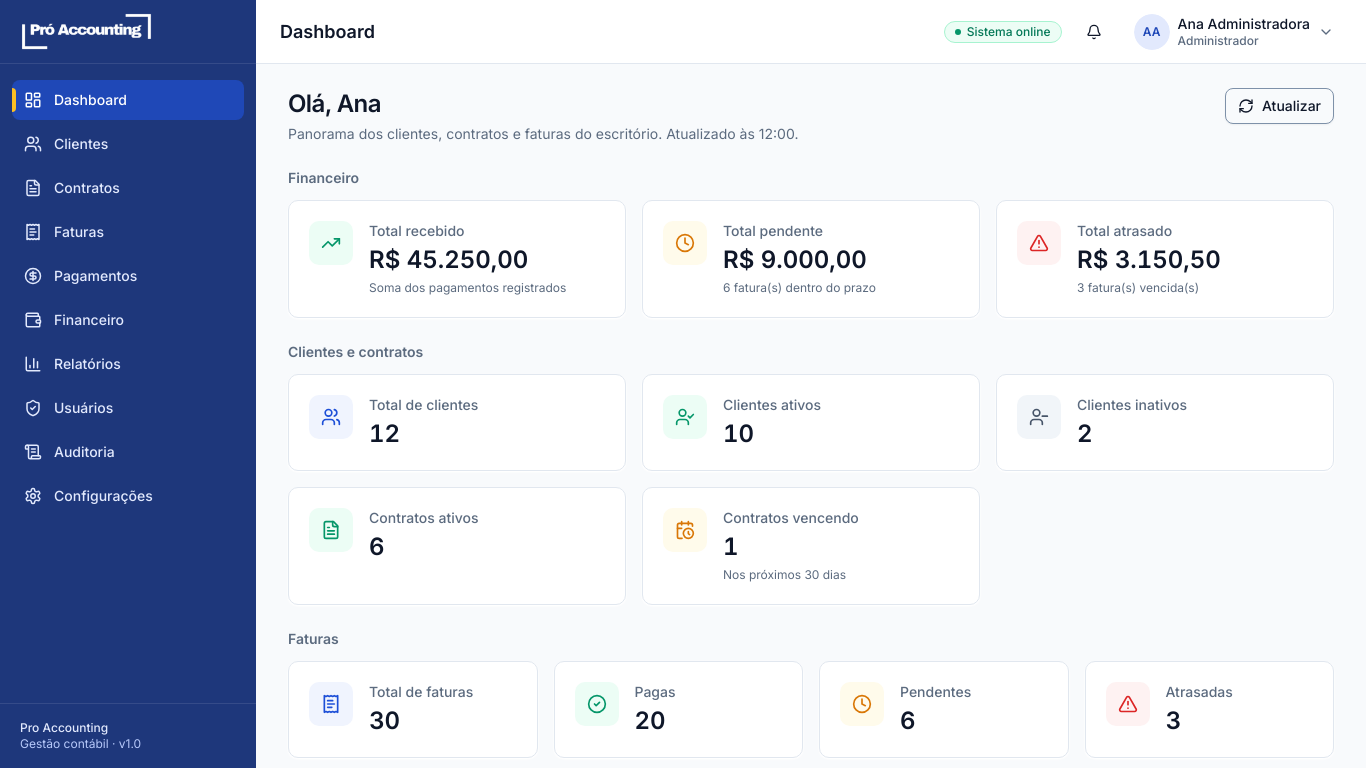
Test: navegação por perfil › clicar no menu navega e marca o título da página
Expected: the text "Ana Administradora" is shown, [1178,15,1310,33]
Click the link "Clientes" at [66, 144], box [24,135,108,153]
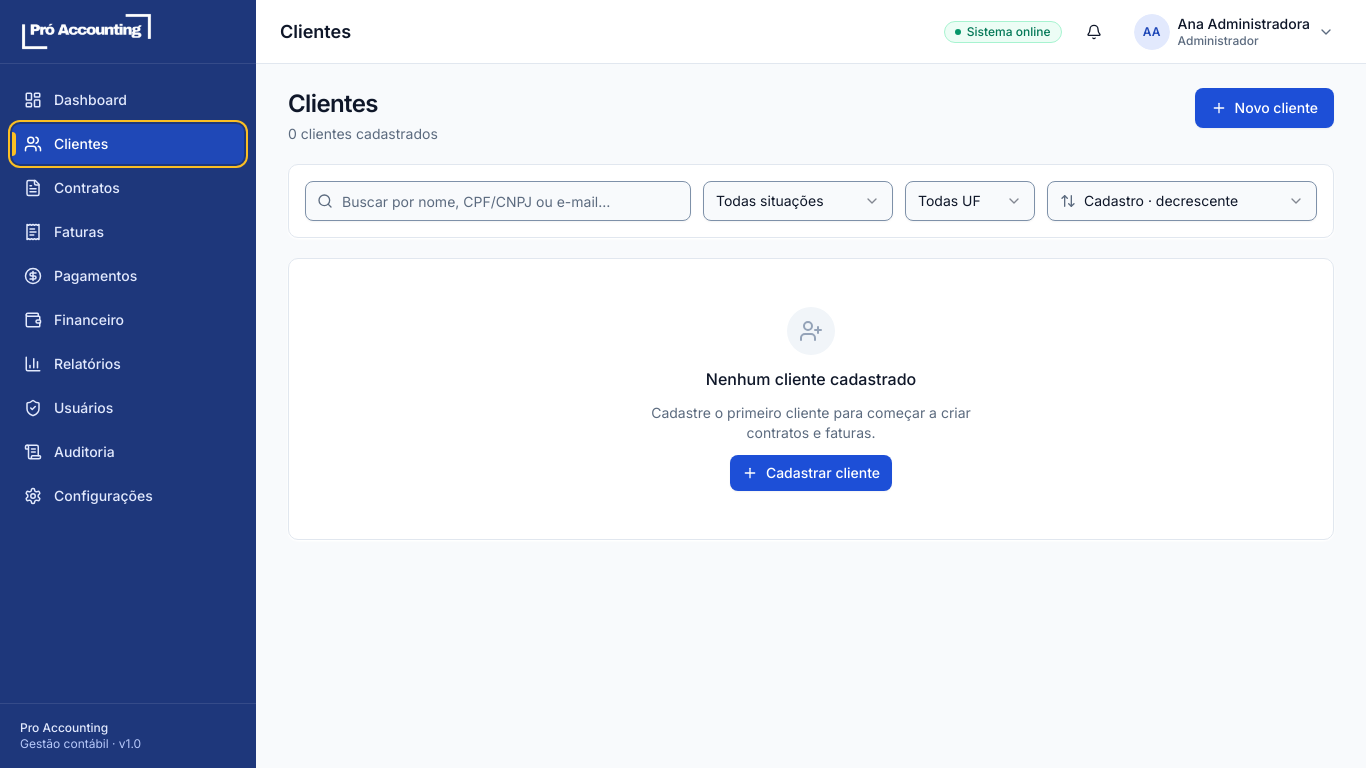
Expected: the heading "Clientes" in the row of "Sistema online" is shown, [280,18,351,46]
